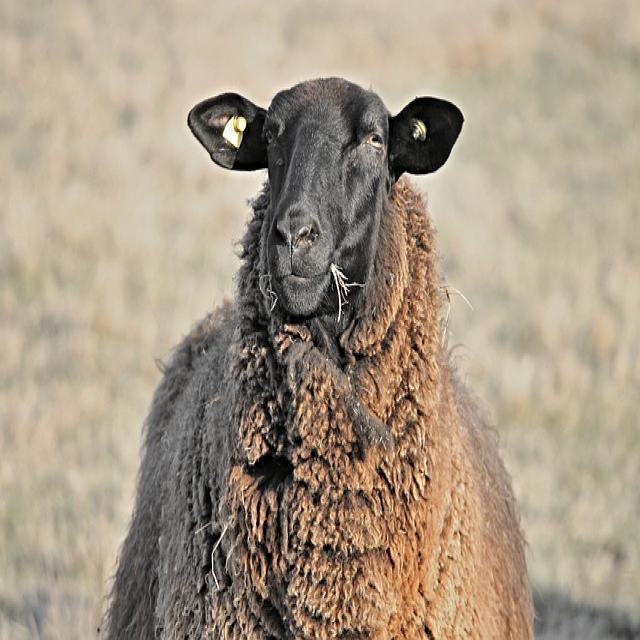sheep: (97, 74, 536, 638)
